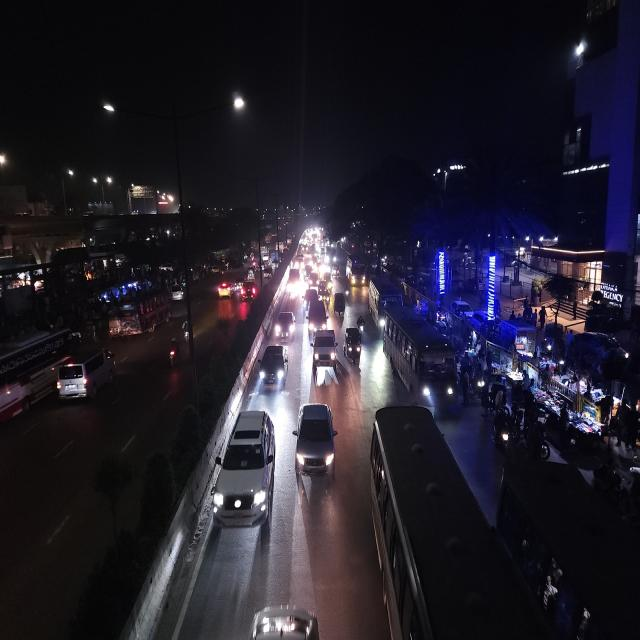bus: (366, 405, 568, 640), (494, 457, 640, 640), (381, 304, 461, 416), (112, 288, 171, 341), (367, 275, 398, 331), (345, 250, 366, 288)
car: (212, 406, 278, 537), (54, 344, 118, 406), (295, 399, 337, 483), (256, 341, 290, 394), (309, 325, 337, 377), (304, 302, 330, 337), (274, 307, 296, 344), (240, 279, 258, 302), (216, 280, 234, 302), (170, 283, 184, 302)
cng: (343, 323, 362, 368), (333, 290, 347, 321)
motorcycle: (491, 402, 515, 454), (166, 333, 182, 371), (181, 315, 194, 345), (356, 312, 366, 337)
